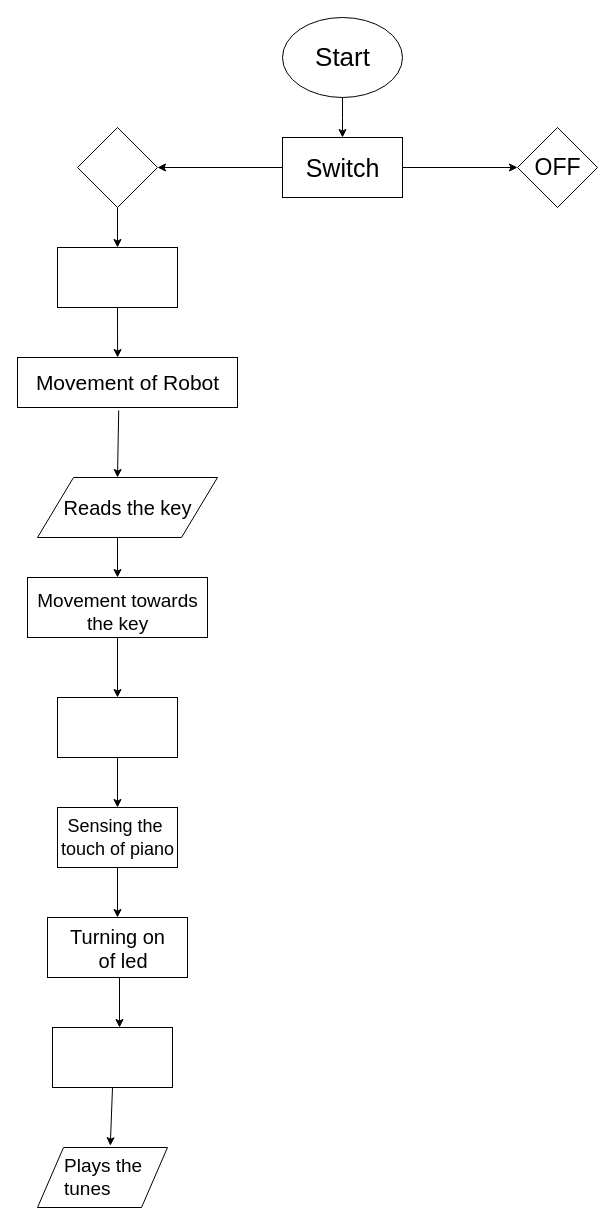
The diagram is 615 pixels wide and 1225 high, and some of its shapes have lost their labels. Each missing label, with the box of its shape:
DC Motor get started: (56, 246, 178, 308)
Hitting of the key: (56, 696, 178, 758)
ON: (76, 126, 158, 208)
Process continues: (52, 1026, 172, 1088)
